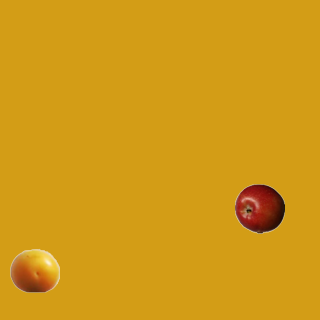Apple Braeburn: (234, 183, 284, 233)
Cherry Wax Yellow: (9, 245, 59, 295)
